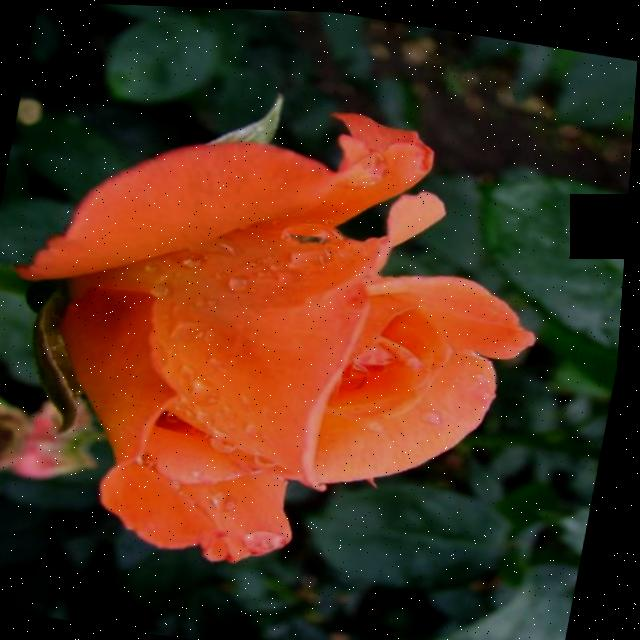rose: (0, 51, 598, 613)
